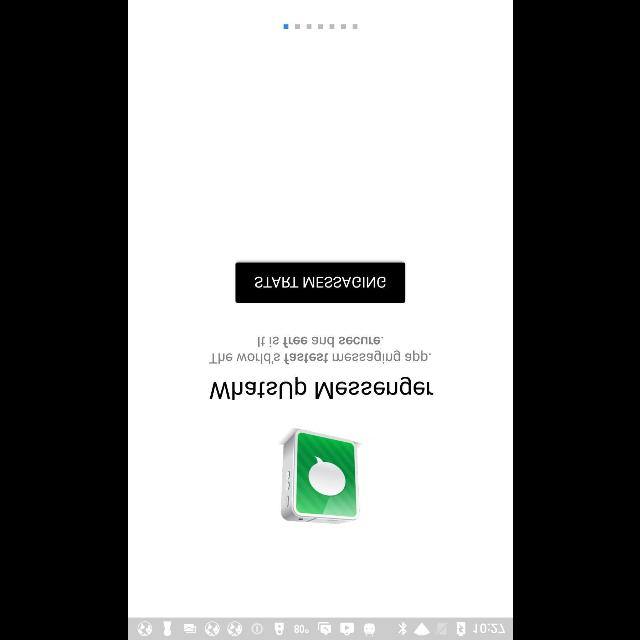image: (278, 428, 360, 524)
pageindicator: (283, 24, 357, 30)
text: (208, 336, 430, 364), (209, 376, 433, 399)
textbutton: (235, 263, 405, 303)
uppertaskbar: (128, 617, 512, 639)
